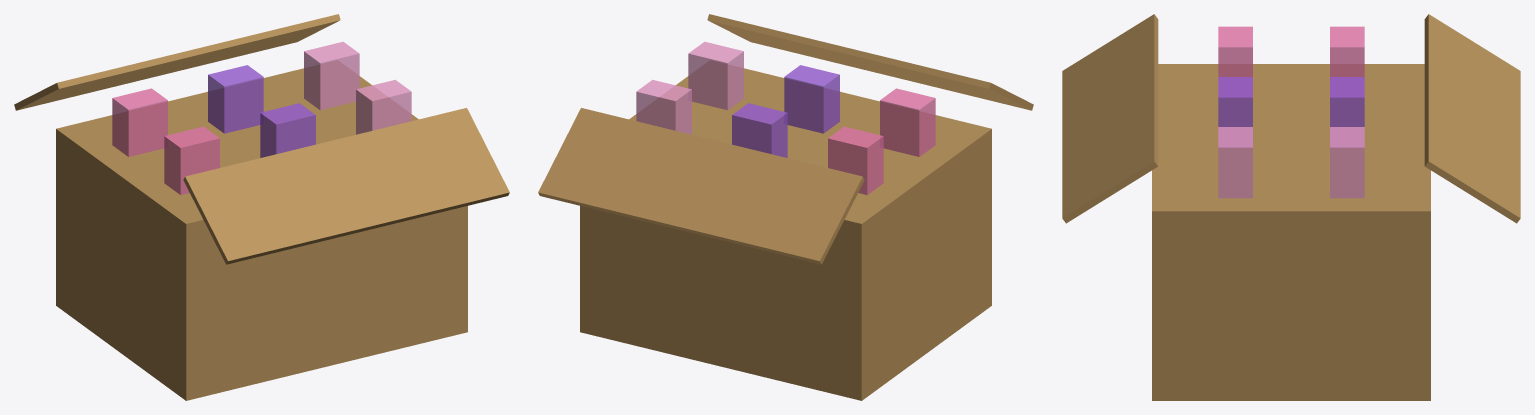
Rendered from rink_perfume_box.glb.
3 renders of one model, left to right at view 1: azimuth 30°, elevation 25°; view 2: azimuth 150°, elevation 25°; view 3: azimuth 270°, elevation 25°, orthographic. The views are drawn at different scales.
Parts seen in each view (by area): view 1: box_box_card, flap_box_card, bottle; view 2: box_box_card, flap_box_card, bottle; view 3: box_box_card, flap_box_card, bottle.
Boxes of the visible parts, x1,y1,x2,y2 form: box_box_card: (56,62,467,400); flap_box_card: (14,14,509,264); bottle: (112,41,411,194); box_box_card: (580,65,991,400); flap_box_card: (538,14,1033,264); bottle: (636,41,935,194); box_box_card: (1152,64,1430,400); flap_box_card: (1062,14,1520,223); bottle: (1218,26,1364,198).
Size of the model in its own units: 0.5 by 0.38 by 0.6577.
